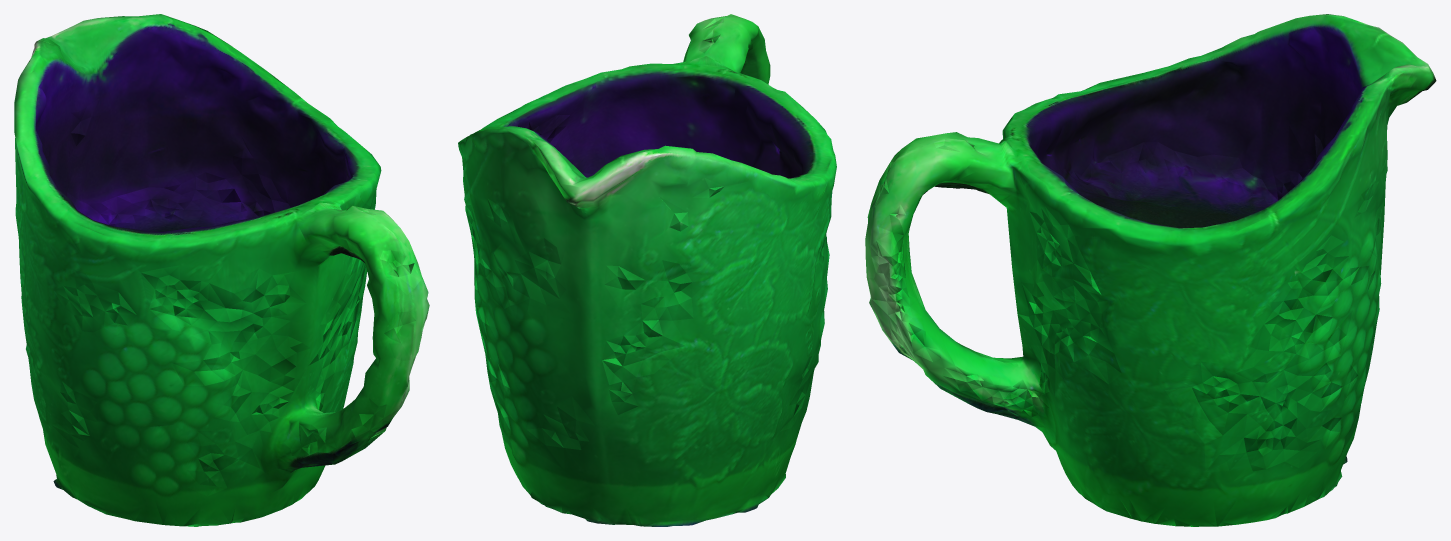
The model's file is uranium.glb.
3 renders of one model, left to right at view 1: azimuth 30°, elevation 25°; view 2: azimuth 150°, elevation 25°; view 3: azimuth 270°, elevation 25°, orthographic. The views are drawn at different scales.
Visible parts, largest first — view 1: 3DModel; view 2: 3DModel; view 3: 3DModel.
Boxes of the visible parts, x1=… form: 3DModel: x1=14, y1=14, x2=429, y2=526; 3DModel: x1=458, y1=14, x2=836, y2=526; 3DModel: x1=865, y1=14, x2=1436, y2=526.
Bounding box in the file's own units: 3.39 × 3.93 × 4.98.
Materials: 1 (1 with a texture image).
